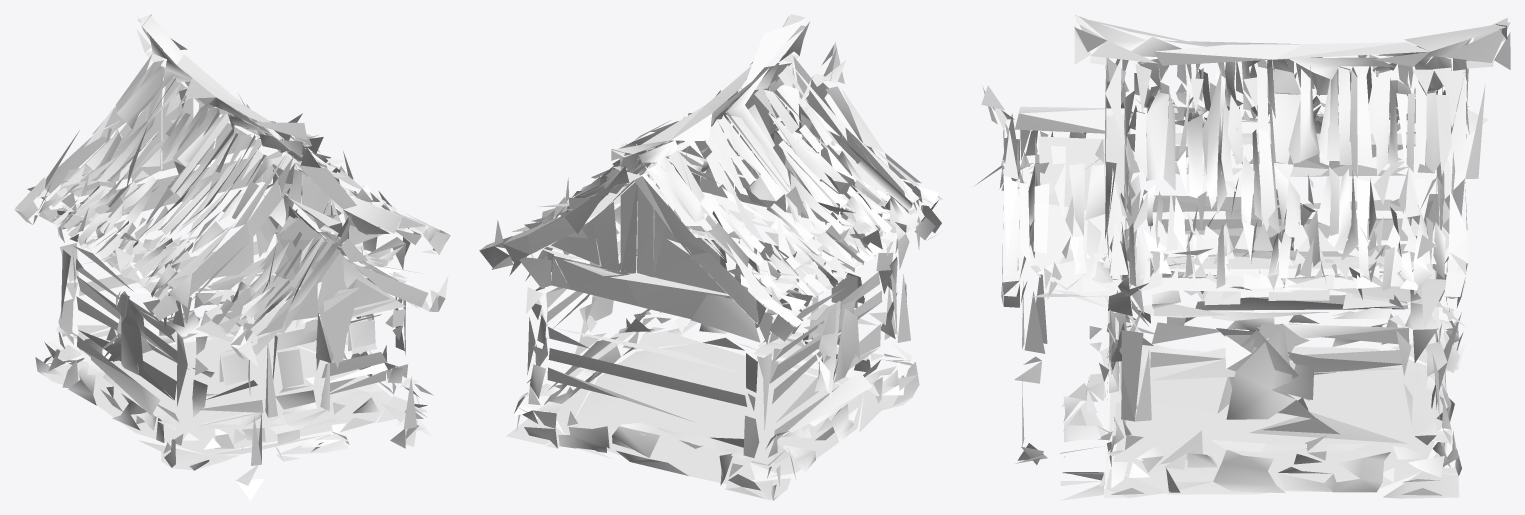
The model's file is house_timber_a_lod2.glb.
3 renders of one model, left to right at view 1: azimuth 30°, elevation 25°; view 2: azimuth 150°, elevation 25°; view 3: azimuth 270°, elevation 25°, orthographic. The views are drawn at different scales.
Parts seen in each view (by area): view 1: house_timber_a; view 2: house_timber_a; view 3: house_timber_a.
Part boxes in pixels (box(x1,y1,x2,y2)): house_timber_a: box(14, 14, 450, 500); house_timber_a: box(479, 14, 942, 500); house_timber_a: box(975, 14, 1510, 500).
Bounding box in the file's own units: 7.63 × 7.76 × 9.1.
1 material, 1 textured.
